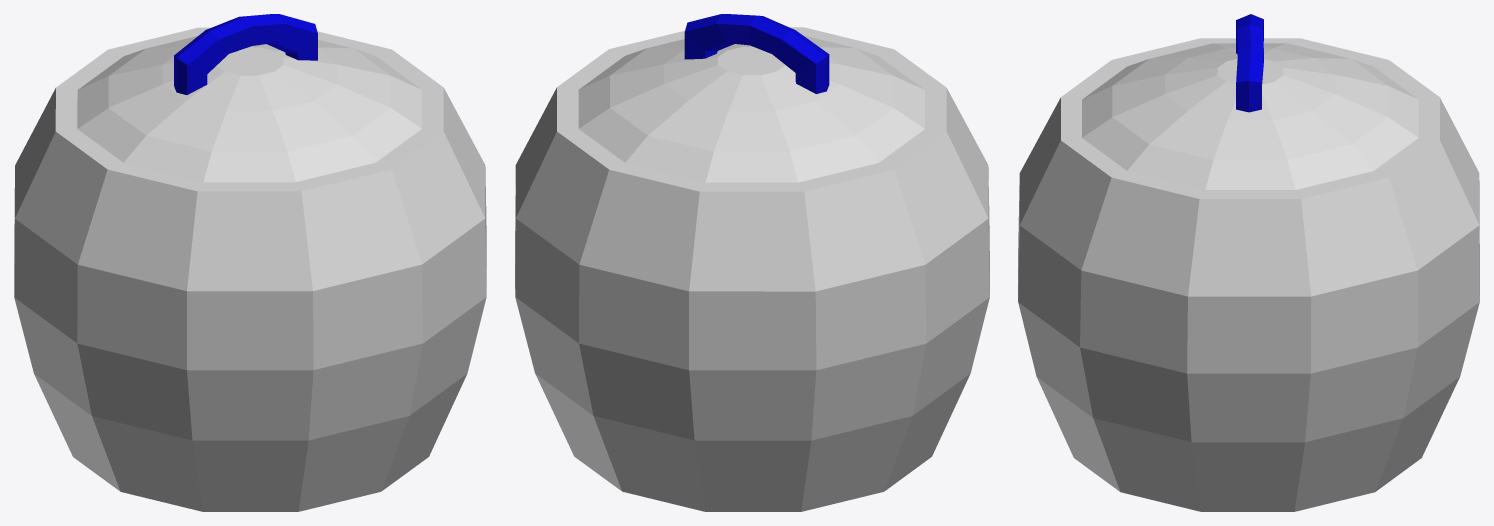
Rendered from EA03_Prop_Container_Basket_01a.fbx.
3 renders of one model, left to right at view 1: azimuth 30°, elevation 25°; view 2: azimuth 150°, elevation 25°; view 3: azimuth 270°, elevation 25°, orthographic. The views are drawn at different scales.
Parts seen in each view (by area): view 1: EA03_Prop_Container_Basket_01a_LOD0; view 2: EA03_Prop_Container_Basket_01a_LOD0; view 3: EA03_Prop_Container_Basket_01a_LOD0.
Boxes of the visible parts, left/top/right/bottom form: EA03_Prop_Container_Basket_01a_LOD0: left=14, top=14, right=486, bottom=511; EA03_Prop_Container_Basket_01a_LOD0: left=515, top=14, right=989, bottom=511; EA03_Prop_Container_Basket_01a_LOD0: left=1018, top=14, right=1479, bottom=511.
Size of what is drawn, in the model's own units: 0.4662 by 0.4578 by 0.465.
